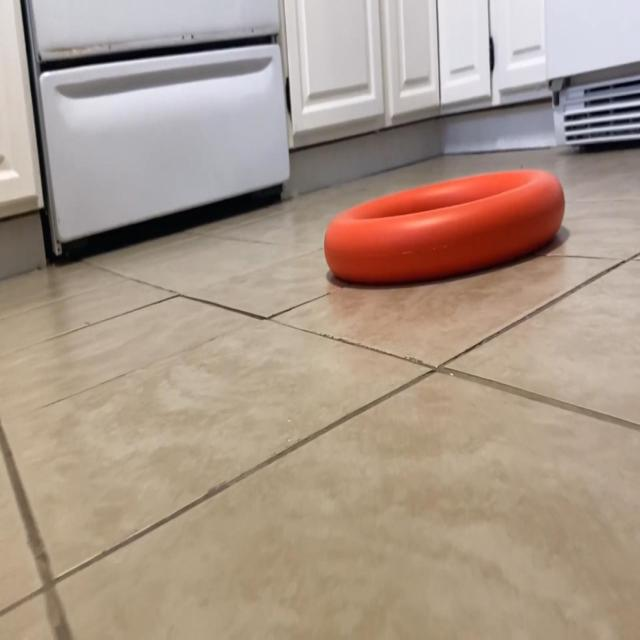note: (322, 167, 568, 292)
